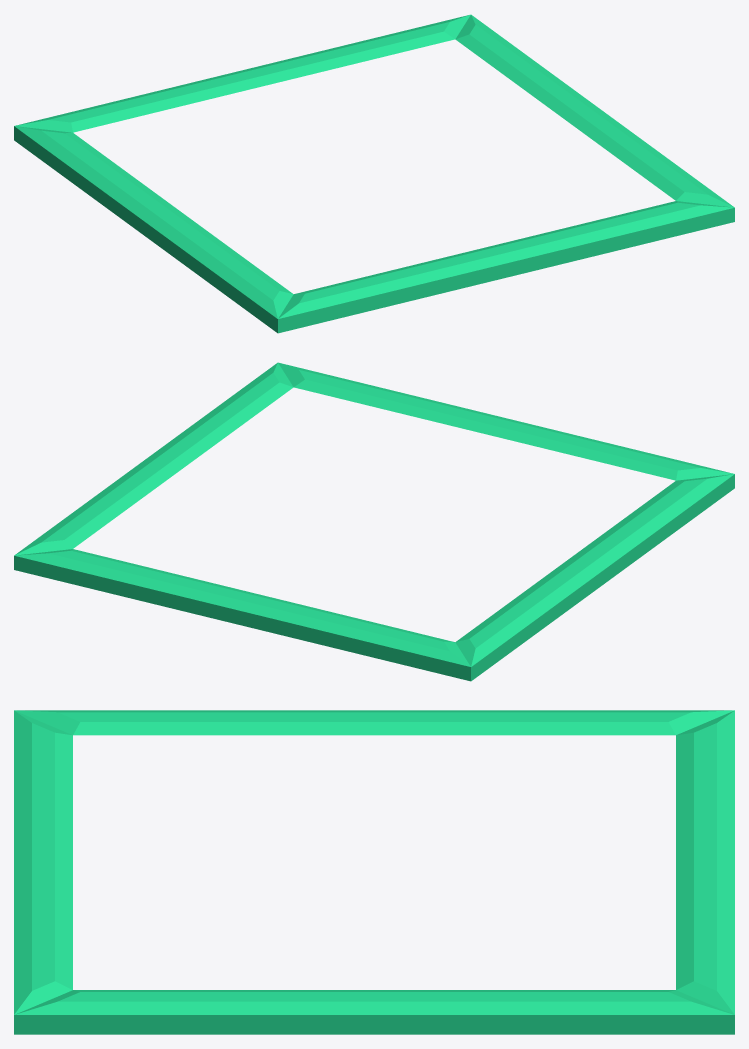
File: tileSelection.fbx
3 views of the same model, one above another, from view 1: azimuth 30°, elevation 25°; view 2: azimuth 150°, elevation 25°; view 3: azimuth 270°, elevation 25° (orthographic). The views are drawn at different scales.
Visible parts, largest first — view 1: Cube; view 2: Cube; view 3: Cube.
Boxes of the visible parts, x1,y1,x2,y2 form: Cube: [14, 14, 734, 333]; Cube: [14, 362, 734, 681]; Cube: [14, 710, 734, 1034].
Size of the model in its own units: 200 by 7.74 by 200.
